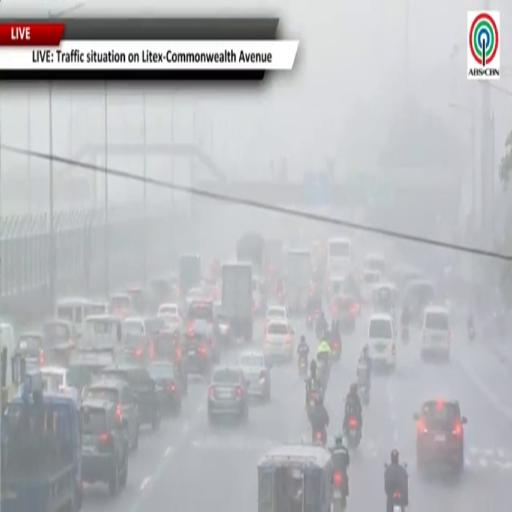car: (81, 399, 129, 495), (83, 378, 139, 450), (101, 363, 162, 429), (414, 399, 467, 472), (208, 366, 248, 424), (153, 329, 187, 395), (68, 351, 113, 395), (122, 316, 164, 363), (148, 361, 181, 414), (367, 314, 396, 369), (421, 307, 450, 360), (239, 350, 270, 399), (189, 320, 220, 363), (185, 328, 212, 376), (39, 366, 79, 398), (264, 320, 294, 361), (331, 294, 360, 333), (17, 332, 45, 370), (361, 269, 381, 303), (187, 300, 214, 325), (109, 293, 134, 318), (158, 303, 182, 327), (216, 311, 232, 347), (265, 304, 289, 324), (364, 253, 386, 273), (185, 287, 205, 307)
motorcycle: (332, 471, 346, 511), (347, 418, 360, 447), (307, 390, 319, 421), (317, 360, 329, 390), (315, 315, 328, 340), (391, 490, 405, 511), (306, 310, 320, 330), (312, 428, 326, 446), (358, 384, 369, 405), (393, 492, 405, 511), (331, 341, 341, 361), (298, 355, 307, 376), (402, 326, 410, 344), (468, 327, 475, 342)
truck: (0, 372, 82, 511), (222, 263, 253, 342), (285, 249, 312, 313), (236, 233, 265, 275), (179, 253, 202, 297)
